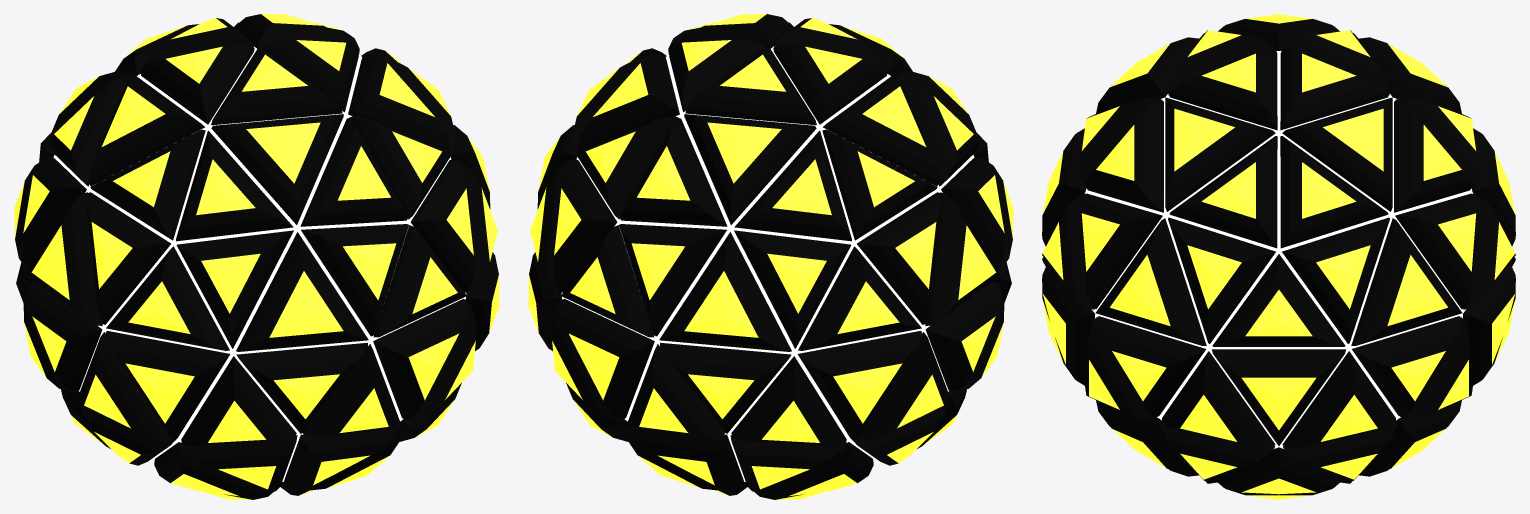
File: Ico enemy.glb
3 renders of one model, left to right at view 1: azimuth 30°, elevation 25°; view 2: azimuth 150°, elevation 25°; view 3: azimuth 270°, elevation 25°, orthographic.
Parts seen in each view (by area): view 1: Icosphere; view 2: Icosphere; view 3: Icosphere.
Boxes of the visible parts, box(x1,y1,x2,y2) form: Icosphere: box(14, 14, 499, 499); Icosphere: box(528, 14, 1013, 499); Icosphere: box(1042, 14, 1515, 499).
Bounding box in the file's own units: 1.85 × 1.83 × 1.81.
